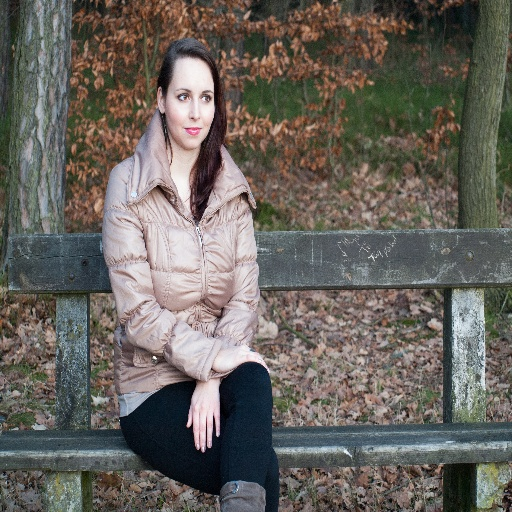hand: (187, 375, 219, 449), (211, 342, 271, 373)
